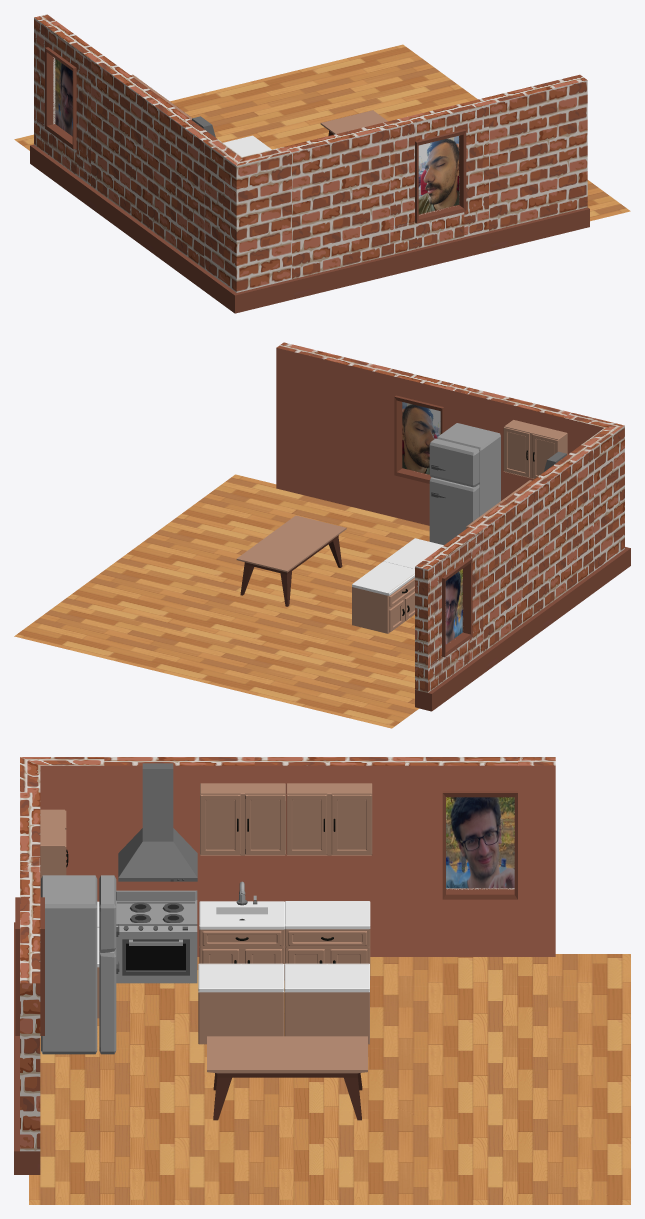
Rendered from HERSEYDAHIL50ktl.fbx.
3 views of the same model, one above another, from view 1: azimuth 30°, elevation 25°; view 2: azimuth 150°, elevation 25°; view 3: azimuth 270°, elevation 25° (orthographic). The views are drawn at different scales.
Parts seen in each view (by area): view 1: Plane.001, duvar.006, duvar.001, kose_duvar.001, pencere.001, duvar.002, duvar.007, pencere.002, Plane.003, Plane.002, Cube.008, Cube.012; view 2: Plane.001, duvar.001, pencere.002, duvar.007, duvar.002, pencere.001, doap0.1, kose_duvar.001, Cube.008, Cube.012, duvar.006, Cube.007 (+3 smaller); view 3: Plane.001, pencere.002, duvar.007, doap0.1, duvar.002, Cube.008, Cube, kose_duvar.001, Cube.010, Cube.012, Plane.002, Cube.005 (+8 smaller).
Boxes of the visible parts, x1=… form: Plane.001: x1=14, y1=44, x2=630, y2=221; duvar.006: x1=284, y1=123, x2=392, y2=299; duvar.001: x1=482, y1=74, x2=589, y2=250; kose_duvar.001: x1=200, y1=139, x2=293, y2=313; pencere.001: x1=383, y1=98, x2=491, y2=274; duvar.002: x1=144, y1=97, x2=217, y2=288; duvar.007: x1=87, y1=56, x2=160, y2=246; pencere.002: x1=30, y1=14, x2=103, y2=204; Plane.003: x1=418, y1=136, x2=458, y2=214; Plane.002: x1=55, y1=58, x2=72, y2=136; Cube.008: x1=320, y1=110, x2=387, y2=135; Cube.012: x1=223, y1=135, x2=271, y2=156; Plane.001: x1=14, y1=474, x2=429, y2=728; duvar.001: x1=276, y1=342, x2=379, y2=511; pencere.002: x1=415, y1=526, x2=487, y2=711; duvar.007: x1=471, y1=485, x2=542, y2=670; duvar.002: x1=526, y1=445, x2=597, y2=629; pencere.001: x1=372, y1=366, x2=474, y2=525; doap0.1: x1=429, y1=423, x2=500, y2=544; kose_duvar.001: x1=564, y1=412, x2=630, y2=589; Cube.008: x1=236, y1=515, x2=346, y2=606; Cube.012: x1=352, y1=561, x2=414, y2=633; duvar.006: x1=468, y1=389, x2=570, y2=500; Cube.007: x1=503, y1=420, x2=567, y2=478; Plane.001: x1=29, y1=954, x2=630, y2=1204; pencere.002: x1=405, y1=757, x2=555, y2=956; duvar.007: x1=254, y1=757, x2=404, y2=956; doap0.1: x1=41, y1=875, x2=119, y2=1054; duvar.002: x1=104, y1=757, x2=254, y2=956; Cube.008: x1=207, y1=1036, x2=367, y2=1120; Cube: x1=116, y1=890, x2=197, y2=983; kose_duvar.001: x1=14, y1=757, x2=104, y2=960; Cube.010: x1=198, y1=963, x2=283, y2=1044; Cube.012: x1=284, y1=963, x2=369, y2=1044; Plane.002: x1=446, y1=797, x2=514, y2=888; Cube.005: x1=286, y1=783, x2=372, y2=855.
Size of what is drawn, in the model's own units: 1629 by 569 by 1641.
13 materials, 13 textured.
